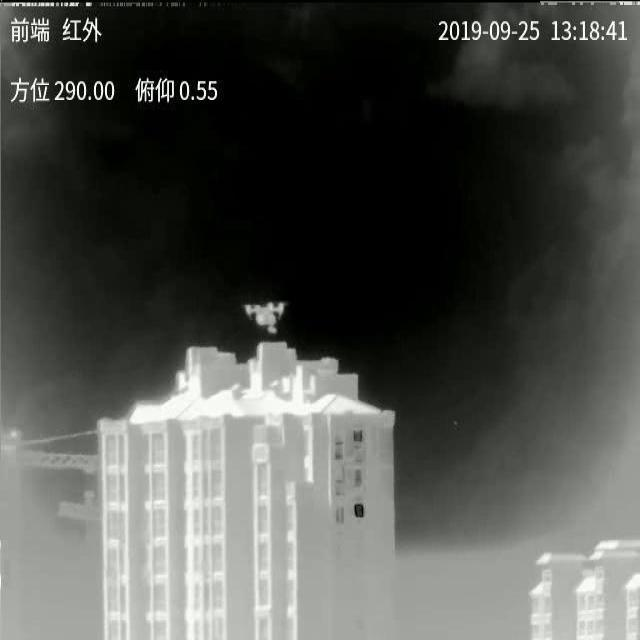drone: (242, 302, 287, 334)
